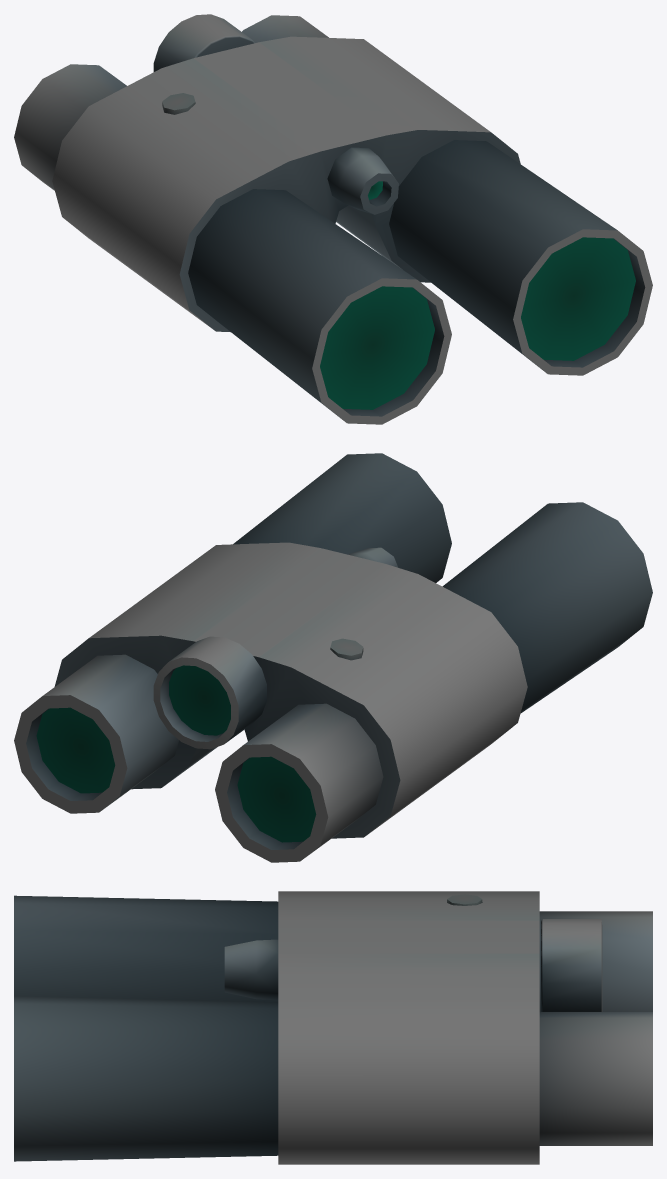
Rendered from human-tools-binoculars_v1.glb.
3 views of the same model, one above another, from view 1: azimuth 30°, elevation 25°; view 2: azimuth 150°, elevation 25°; view 3: azimuth 270°, elevation 25° (orthographic). The views are drawn at different scales.
Visible parts, largest first — view 1: Binoculars.001, Binoculars; view 2: Binoculars.001, Binoculars; view 3: Binoculars.001.
Boxes of the visible parts, box(x1,y1,x2,y2) form: Binoculars.001: box(14, 14, 652, 424); Binoculars: box(320, 181, 635, 409); Binoculars.001: box(14, 453, 652, 862); Binoculars: box(36, 665, 316, 842); Binoculars.001: box(14, 891, 652, 1164).
Size of the model in its own units: 0.0968 by 0.0473 by 0.15.
